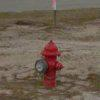Hydrant: (28, 36, 64, 97)
